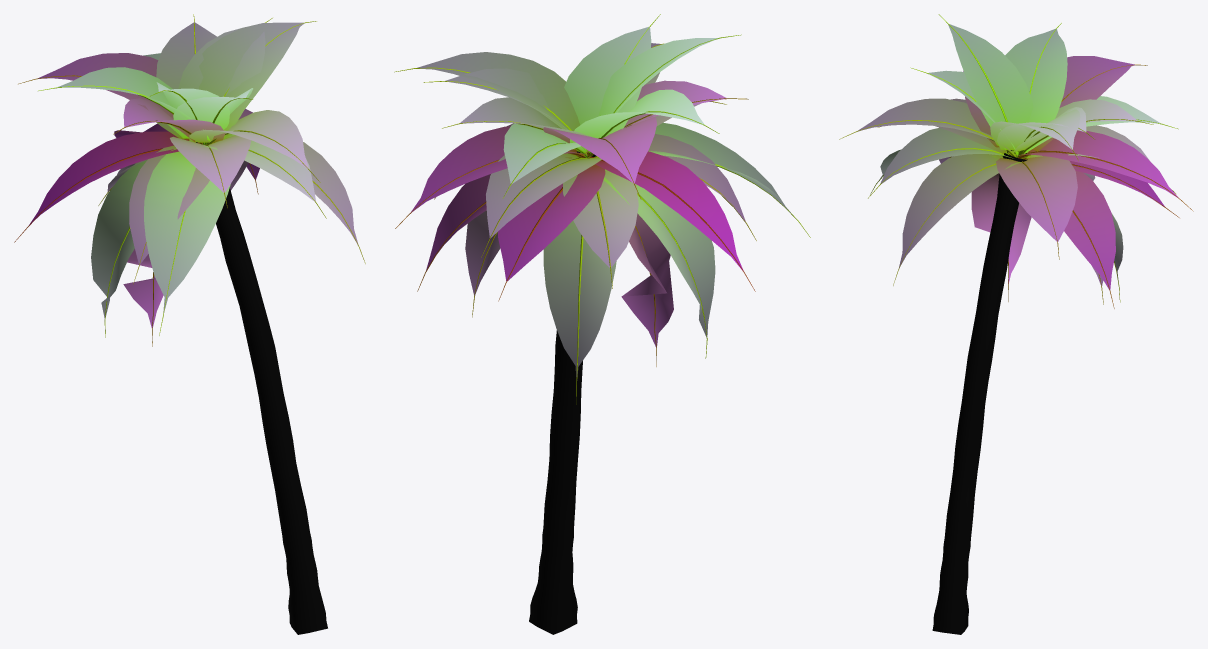
File: tree_palm_c.glb
The picture shows the model from 3 angles, left to right: view 1: azimuth 30°, elevation 25°; view 2: azimuth 150°, elevation 25°; view 3: azimuth 270°, elevation 25°; orthographic projection. The views are drawn at different scales.
Visible parts, largest first — view 1: tree_palm_c; view 2: tree_palm_c; view 3: tree_palm_c.
Boxes of the visible parts, bbox=[...] form: tree_palm_c: bbox=[14, 14, 365, 634]; tree_palm_c: bbox=[394, 14, 810, 634]; tree_palm_c: bbox=[839, 14, 1193, 634].
Size of the model in its own units: 7.19 by 12.5 by 7.44.
